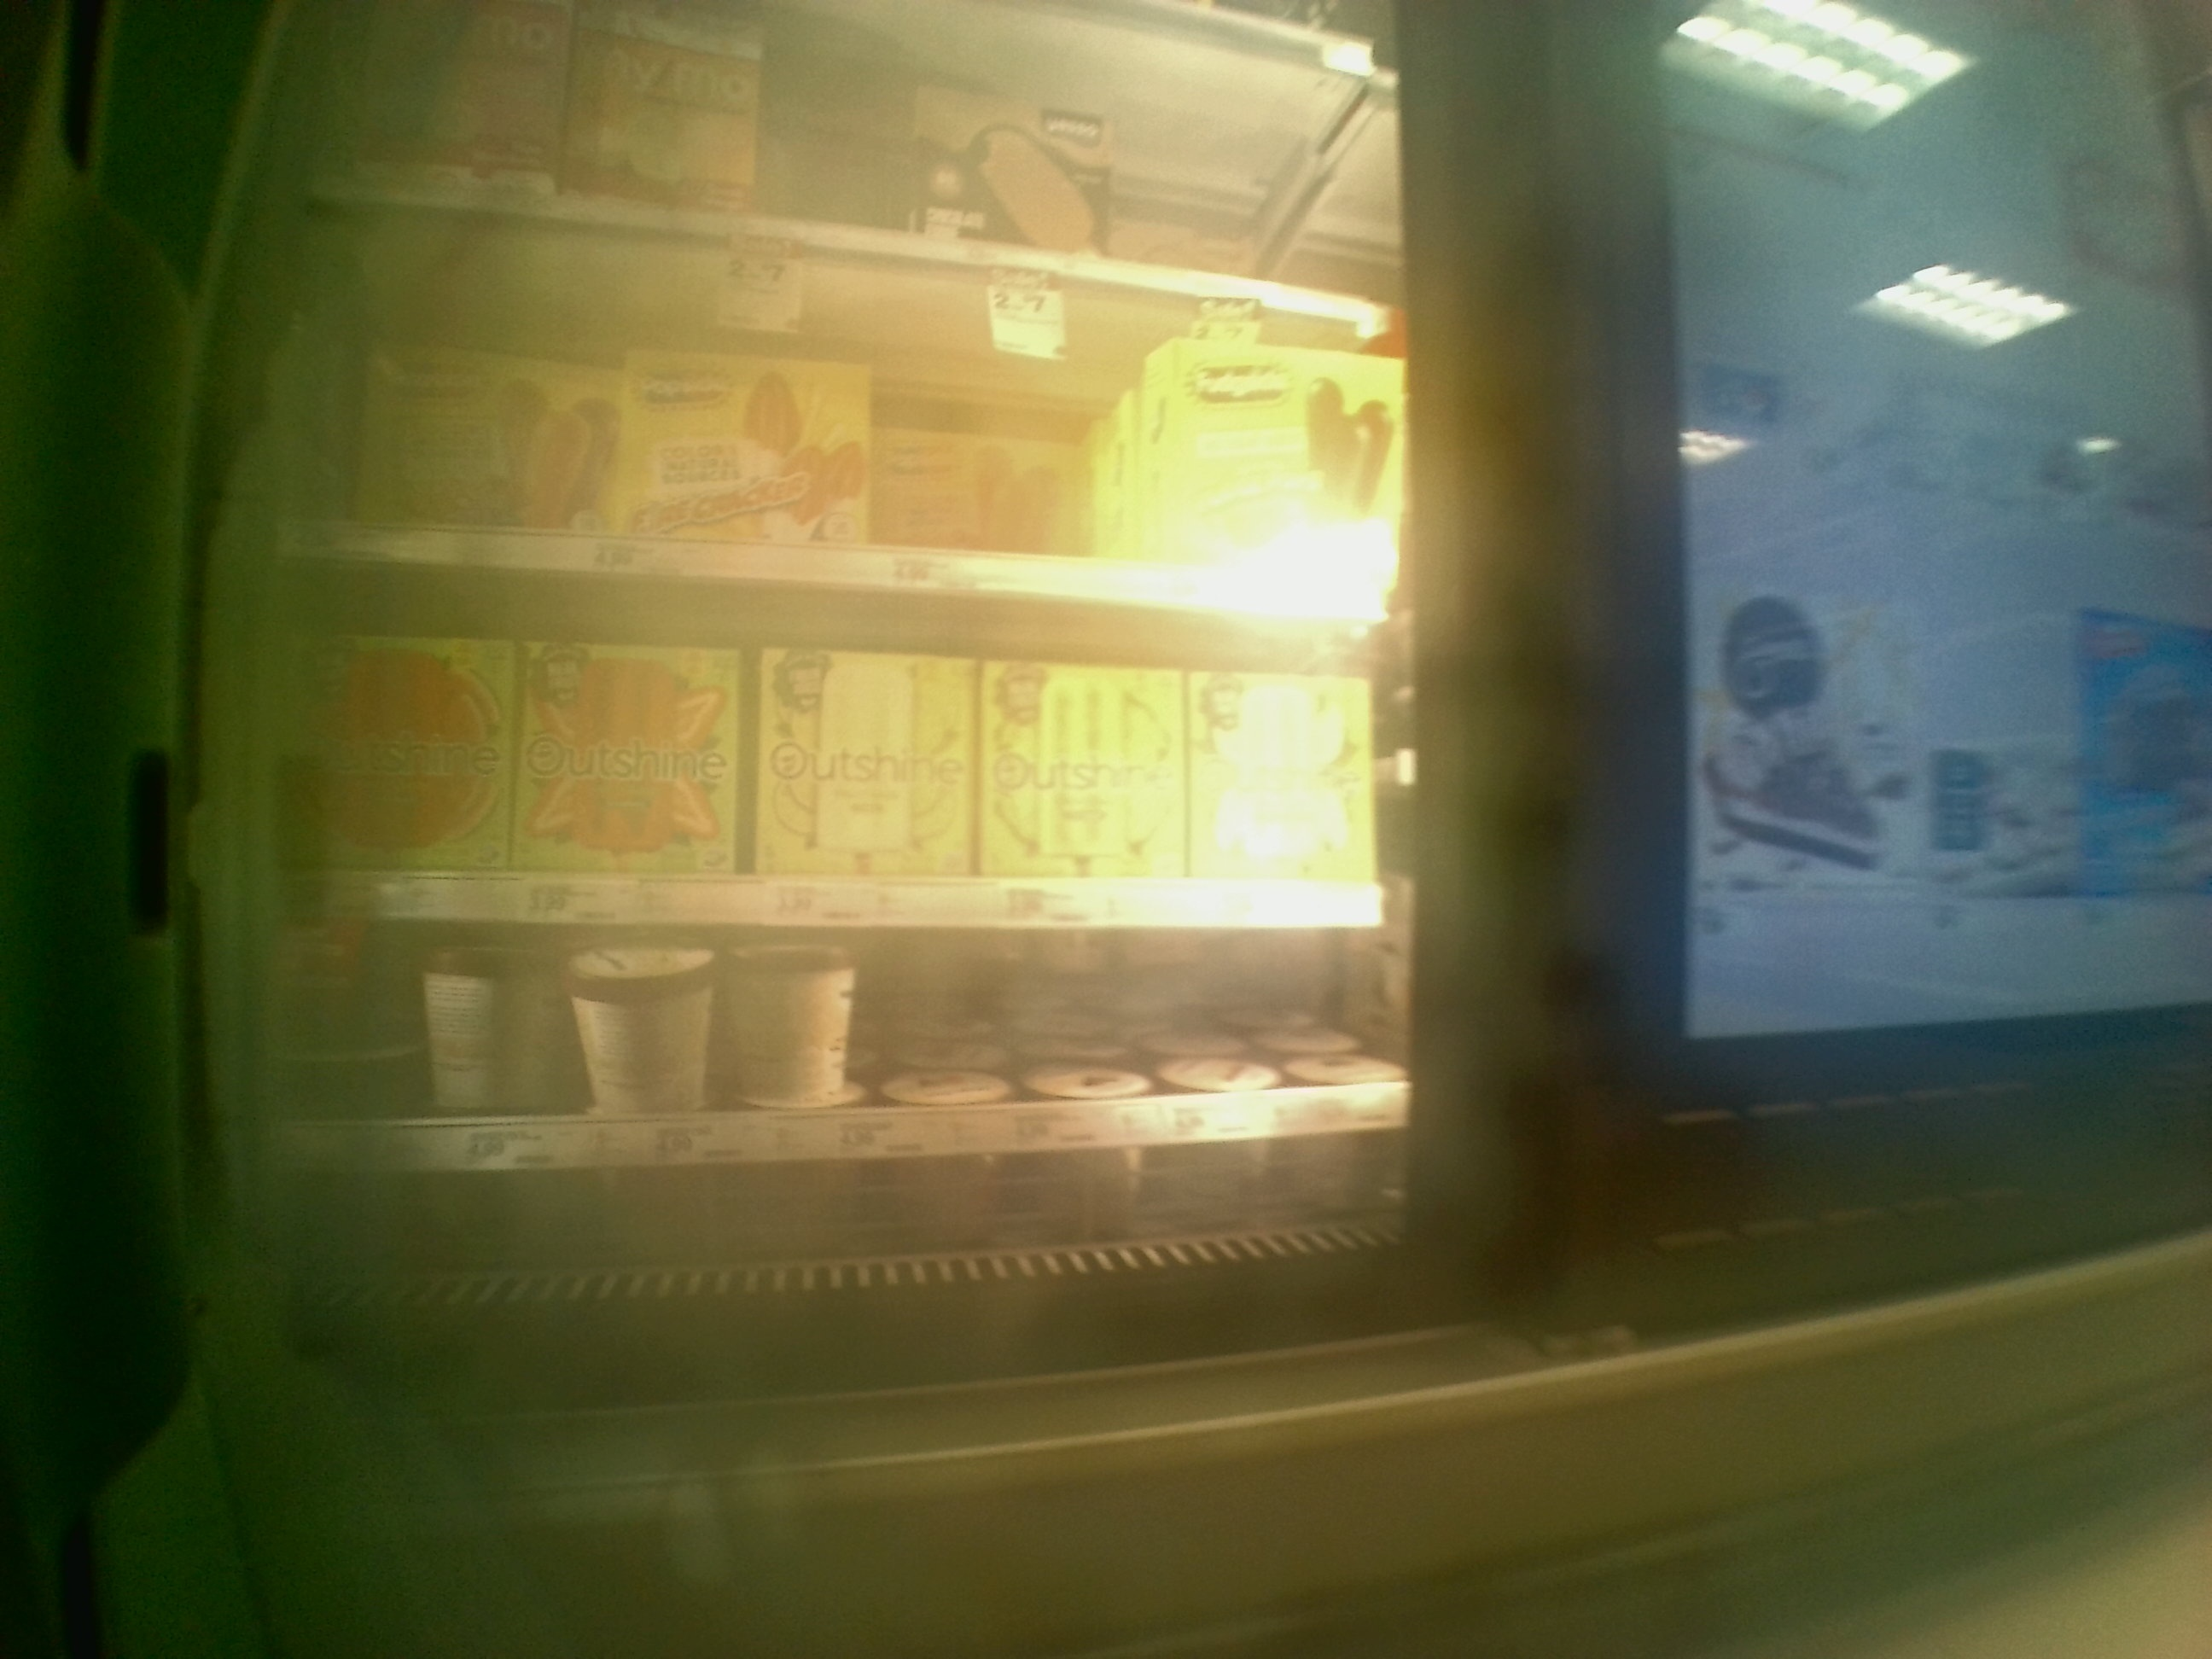shelf: (289, 181, 1406, 617), (296, 558, 1379, 929), (294, 929, 1430, 1202)
